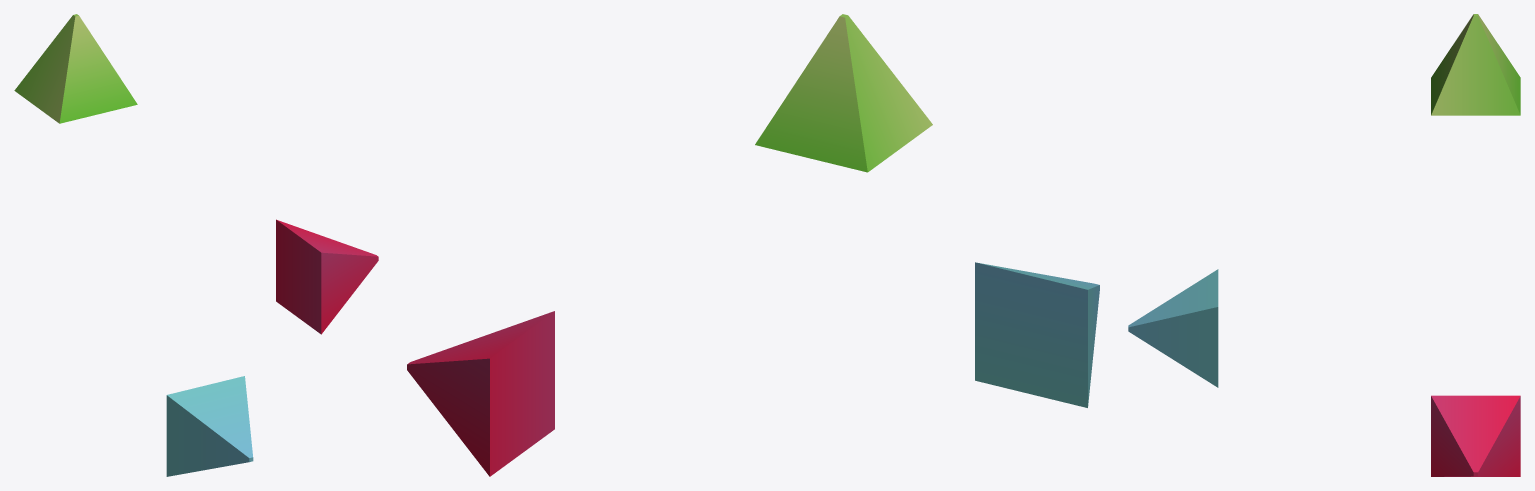
The model's file is arrows.fbx.
3 views of the same model, side by side, from view 1: azimuth 30°, elevation 25°; view 2: azimuth 150°, elevation 25°; view 3: azimuth 270°, elevation 25° (orthographic). The views are drawn at different scales.
Visible parts, largest first — view 1: Y-axis, X-axis, Z-axis; view 2: Y-axis, X-axis, Z-axis; view 3: X-axis, Y-axis, Z-axis.
Part boxes in pixels (x1,y1,x2,y2): Y-axis: [14, 14, 137, 123]; X-axis: [276, 219, 378, 334]; Z-axis: [166, 376, 253, 476]; Y-axis: [755, 14, 932, 172]; X-axis: [407, 311, 554, 476]; Z-axis: [975, 262, 1099, 407]; X-axis: [1431, 395, 1520, 476]; Y-axis: [1431, 14, 1520, 115]; Z-axis: [1128, 269, 1218, 387].
Size of the model in its own units: 153 by 153 by 154.
